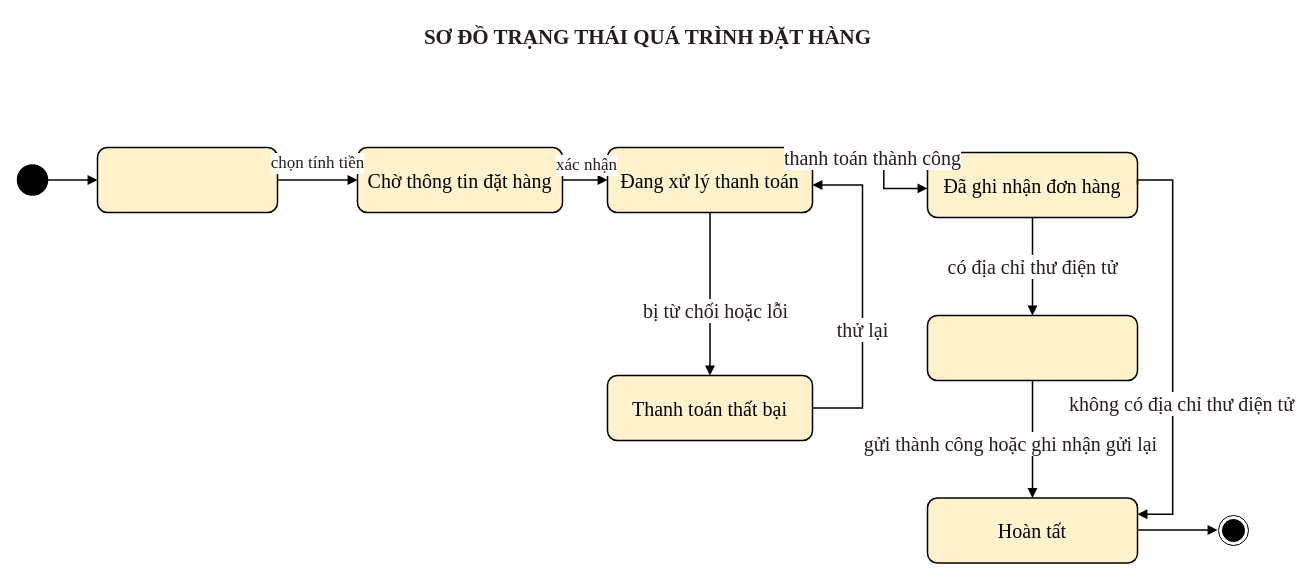
The diagram is 1312 pixels wide and 581 high, and some of its shapes have lost their labels. Each missing label, with the centre of its shape:
Đang chọn hàng: the point at 187,179
Đang gửi thư xác nhận: the point at 1032,347
